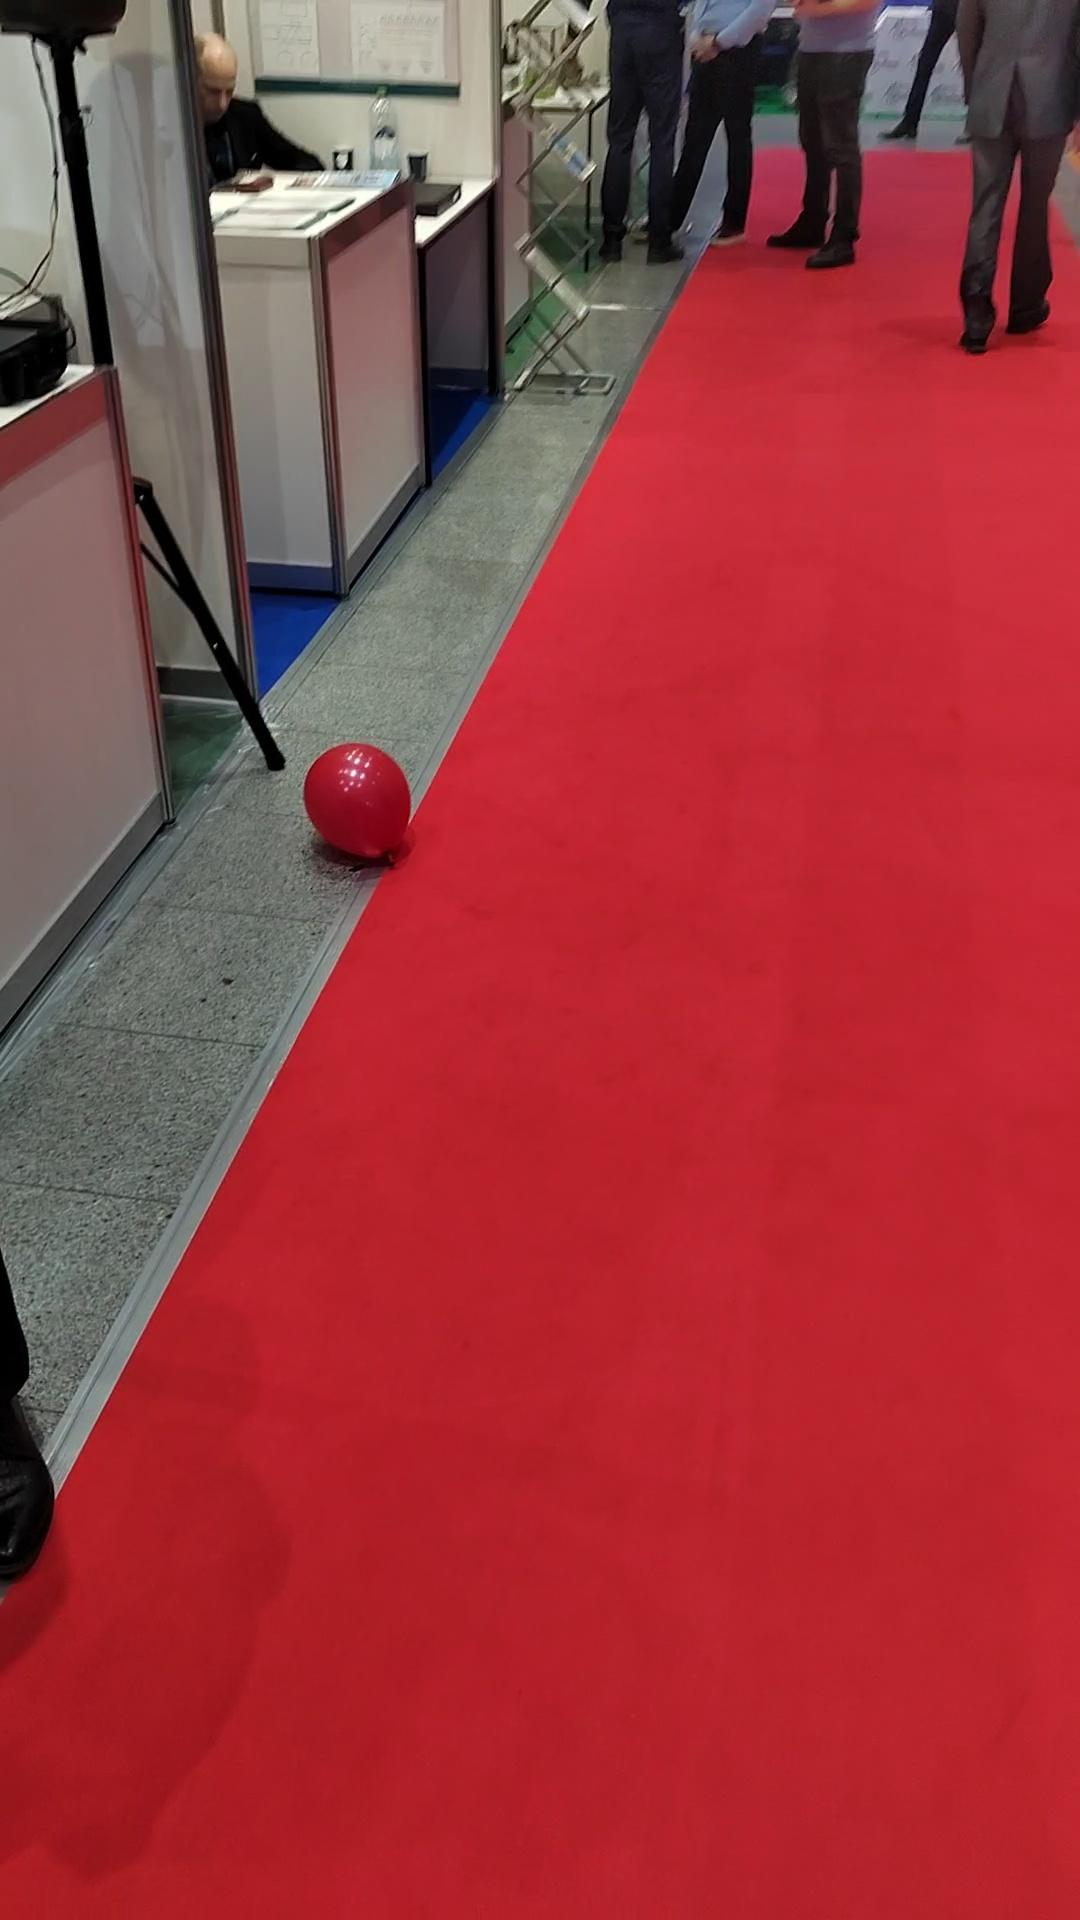red: (297, 735, 419, 881)
